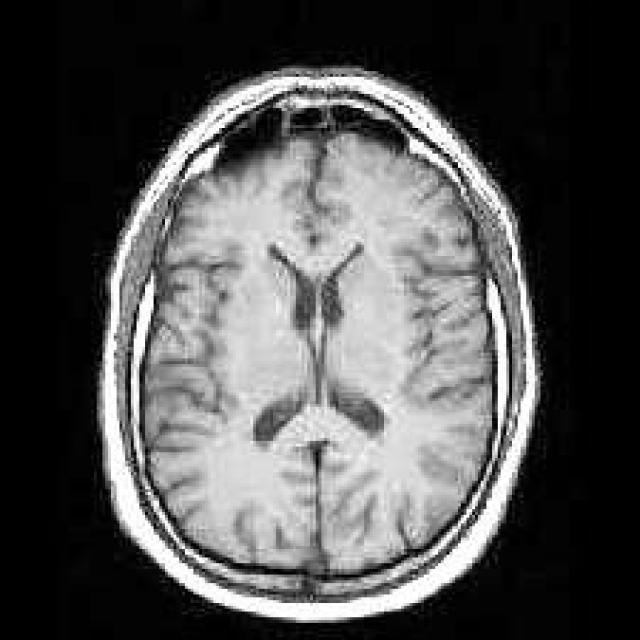notumor: (97, 74, 540, 626)
